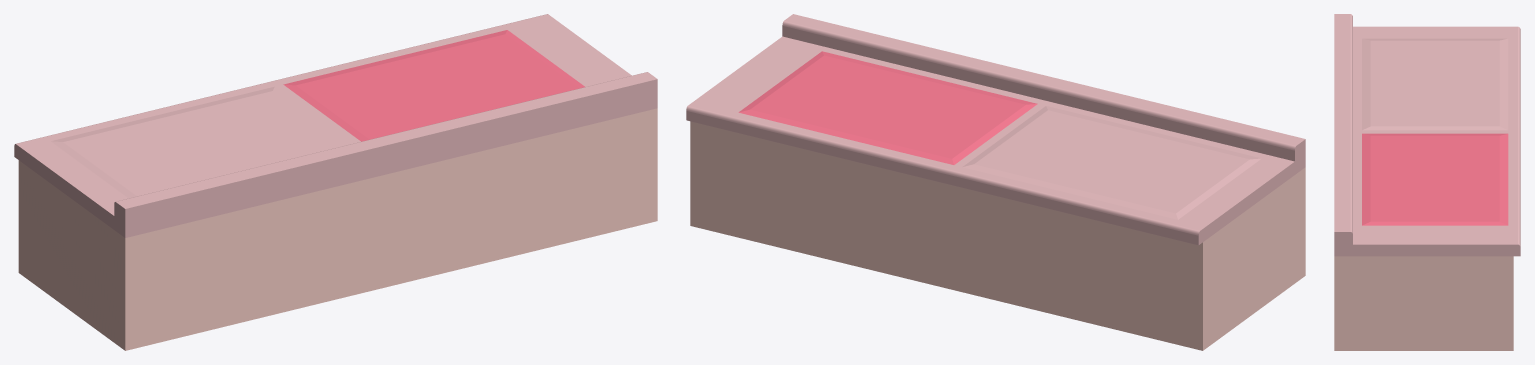
The model's file is stove000.fbx.
The picture shows the model from 3 angles, left to right: view 1: azimuth 30°, elevation 25°; view 2: azimuth 150°, elevation 25°; view 3: azimuth 270°, elevation 25°; orthographic projection. The views are drawn at different scales.
Parts seen in each view (by area): view 1: STOVE; view 2: STOVE; view 3: STOVE.
Boxes of the visible parts, box(x1,y1,x2,y2) form: STOVE: box(14, 14, 657, 350); STOVE: box(686, 14, 1305, 350); STOVE: box(1334, 14, 1520, 350).
Bounding box in the file's own units: 2272 × 579 × 821.
